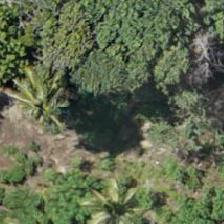coconut_tree: (2, 47, 92, 137)
